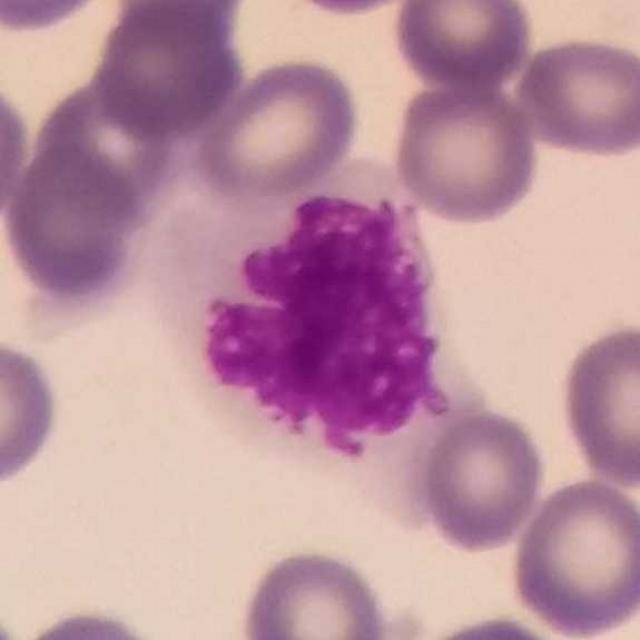Monocyte: (153, 150, 460, 481)
Platelets: (0, 613, 20, 640)
RBC: (190, 53, 365, 206), (0, 138, 147, 309), (23, 72, 186, 223), (389, 79, 542, 228), (505, 474, 640, 639), (89, 0, 247, 139), (406, 403, 549, 554), (510, 31, 639, 163), (236, 543, 393, 640), (554, 318, 640, 491), (388, 0, 537, 93), (0, 333, 66, 492), (105, 0, 252, 45), (13, 603, 177, 640), (398, 609, 579, 640), (0, 72, 35, 230), (0, 0, 117, 37), (273, 0, 433, 19)
